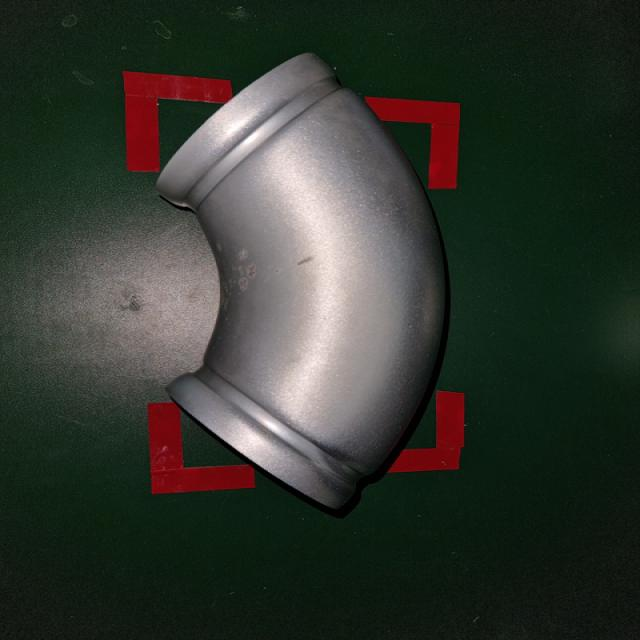Defect: (147, 46, 468, 521)
Hole: (199, 229, 333, 306)
